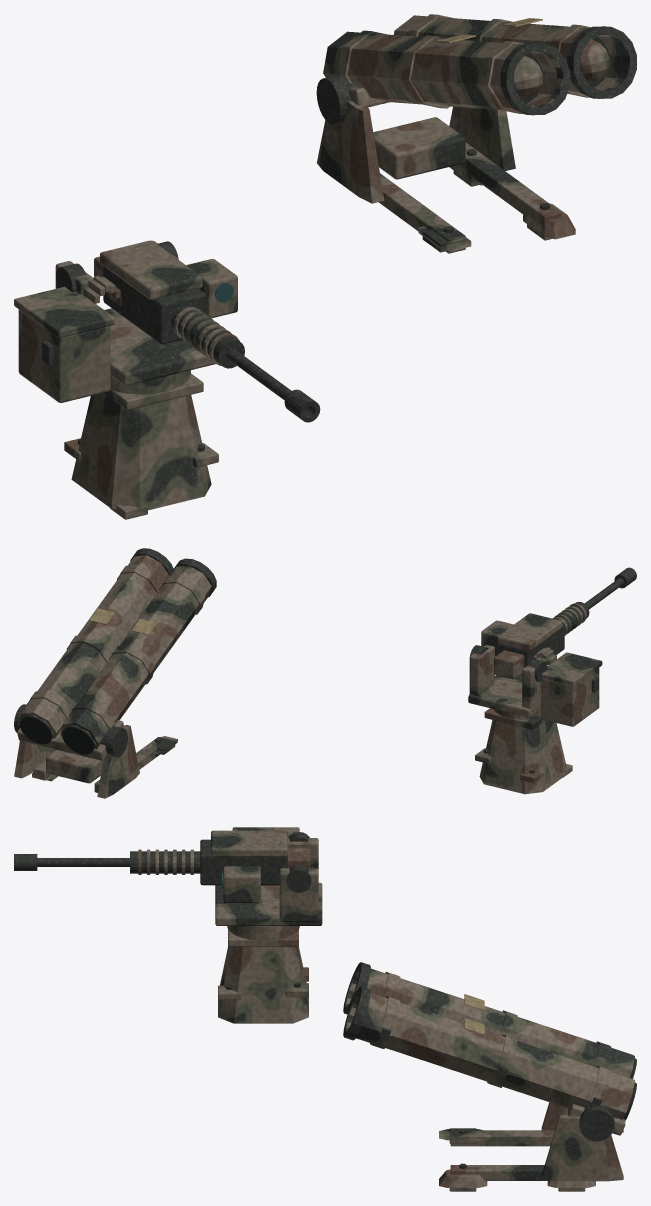
The model's file is M1-SecondaryWeapons-Only.fbx.
3 views of the same model, one above another, from view 1: azimuth 30°, elevation 25°; view 2: azimuth 150°, elevation 25°; view 3: azimuth 270°, elevation 25° (orthographic). The views are drawn at different scales.
Parts seen in each view (by area): view 1: MG_ArmoredPedestal_LOD0, AA_Canister_L_LOD0, MG_AmmoBox_LOD0, AA_Yoke_-1_LOD0, AA_Electronics_LOD0, MG_CradleFloor_LOD0, AA_Canister_R_LOD0, MG_TopCover_LOD0, MG_Receiver_LOD0, MG_AmmoLid_LOD0, AA_Yoke_1_LOD0, AA_BaseRail_1_LOD0 (+15 smaller); view 2: AA_Canister_L_LOD0, AA_Canister_R_LOD0, MG_ArmoredPedestal_LOD0, MG_AmmoBox_LOD0, AA_Yoke_-1_LOD0, MG_CradleFloor_LOD0, MG_TopCover_LOD0, AA_Electronics_LOD0, MG_AmmoLid_LOD0, MG_Yoke_1_LOD0, AA_Yoke_1_LOD0, AA_Crossbar_LOD0 (+18 smaller); view 3: AA_Canister_R_LOD0, MG_ArmoredPedestal_LOD0, AA_Canister_L_LOD0, AA_Yoke_1_LOD0, MG_CradleFloor_LOD0, MG_TopCover_LOD0, MG_Receiver_LOD0, MG_Yoke_1_LOD0, AA_BaseRail_0_LOD0, MG_OpticHousing_LOD0, AA_BaseRail_1_LOD0, MG_BarrelShroud_LOD0 (+10 smaller).
Part boxes in pixels (left/top/right/bottom): MG_ArmoredPedestal_LOD0: left=71, top=393, right=211, bottom=510; AA_Canister_L_LOD0: left=323, top=31, right=562, bottom=109; MG_AmmoBox_LOD0: left=18, top=309, right=110, bottom=402; AA_Yoke_-1_LOD0: left=317, top=100, right=384, bottom=203; AA_Electronics_LOD0: left=373, top=117, right=465, bottom=179; MG_CradleFloor_LOD0: left=105, top=308, right=215, bottom=385; AA_Canister_R_LOD0: left=393, top=15, right=629, bottom=92; MG_TopCover_LOD0: left=100, top=240, right=202, bottom=299; MG_Receiver_LOD0: left=103, top=266, right=205, bottom=344; MG_AmmoLid_LOD0: left=14, top=287, right=115, bottom=338; AA_Yoke_1_LOD0: left=449, top=106, right=515, bottom=170; AA_BaseRail_1_LOD0: left=459, top=142, right=561, bottom=226; AA_Canister_L_LOD0: left=60, top=565, right=211, bottom=748; AA_Canister_R_LOD0: left=18, top=555, right=169, bottom=738; MG_ArmoredPedestal_LOD0: left=479, top=720, right=567, bottom=794; MG_AmmoBox_LOD0: left=541, top=668, right=599, bottom=726; AA_Yoke_-1_LOD0: left=97, top=725, right=139, bottom=798; MG_CradleFloor_LOD0: left=468, top=674, right=541, bottom=717; MG_TopCover_LOD0: left=497, top=613, right=562, bottom=650; AA_Electronics_LOD0: left=46, top=750, right=103, bottom=783; MG_AmmoLid_LOD0: left=542, top=652, right=602, bottom=685; MG_Yoke_1_LOD0: left=469, top=644, right=494, bottom=695; AA_Yoke_1_LOD0: left=14, top=741, right=55, bottom=778; AA_Crossbar_LOD0: left=17, top=716, right=124, bottom=760; AA_Canister_R_LOD0: left=346, top=992, right=634, bottom=1119; MG_ArmoredPedestal_LOD0: left=218, top=946, right=308, bottom=1023; AA_Canister_L_LOD0: left=346, top=968, right=634, bottom=1077; AA_Yoke_1_LOD0: left=541, top=1114, right=623, bottom=1181; MG_CradleFloor_LOD0: left=215, top=882, right=322, bottom=925; MG_TopCover_LOD0: left=211, top=830, right=287, bottom=856; MG_Receiver_LOD0: left=200, top=839, right=287, bottom=885; MG_Yoke_1_LOD0: left=279, top=868, right=318, bottom=921; AA_BaseRail_0_LOD0: left=450, top=1130, right=554, bottom=1146; MG_OpticHousing_LOD0: left=223, top=866, right=260, bottom=902; AA_BaseRail_1_LOD0: left=450, top=1165, right=549, bottom=1180; MG_BarrelShroud_LOD0: left=130, top=851, right=200, bottom=873.
Size of what is drawn, in the model's own units: 323 by 129 by 350.
6 materials, 6 textured.
